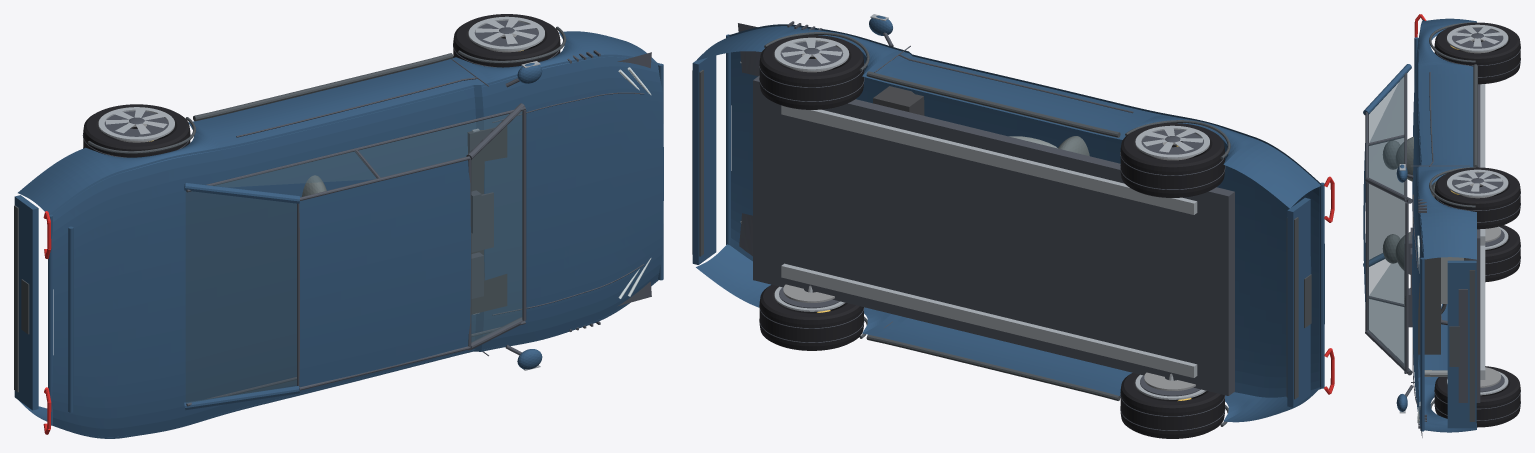
3 renders of one model, left to right at view 1: azimuth 30°, elevation 25°; view 2: azimuth 150°, elevation 25°; view 3: azimuth 270°, elevation 25°, orthographic. The views are drawn at different scales.
Visible parts, largest first — view 1: body_paint, body_glass, body_windshield, body_black, body_accent, wheel_rear_R_rubber, body_dash, wheel_front_R_rubber, wheel_front_R_metal, wheel_rear_R_metal, wheel_rear_R_black, wheel_front_R_black; view 2: body_black, body_paint, body_metal, body_accent, wheel_rear_R_rubber, wheel_front_R_rubber, wheel_rear_L_rubber, wheel_front_L_rubber, wheel_front_R_metal, wheel_rear_R_metal, wheel_rear_R_black, wheel_front_R_black (+3 smaller); view 3: body_paint, body_glass, body_black, body_windshield, body_accent, wheel_front_R_rubber, wheel_rear_R_rubber, wheel_front_L_rubber, body_dash, body_metal, body_seat, wheel_rear_L_rubber (+10 smaller).
Boxes of the visible parts, x1,y1,x2,y2 form: body_paint: (14,31,663,438); body_glass: (186,111,521,402); body_windshield: (471,111,522,342); body_black: (186,50,651,406); body_accent: (14,26,566,392); wheel_rear_R_rubber: (83,104,190,157); body_dash: (467,126,507,314); wheel_front_R_rubber: (453,14,560,67); wheel_front_R_metal: (468,16,544,50); wheel_rear_R_metal: (98,107,174,140); wheel_rear_R_black: (82,111,190,157); wheel_front_R_black: (453,20,560,67); body_black: (738,21,1234,395); body_paint: (692,15,1324,422); body_metal: (781,14,1197,380); body_accent: (692,32,1311,426); wheel_rear_R_rubber: (1120,123,1224,197); wheel_front_R_rubber: (759,35,863,109); wheel_rear_L_rubber: (1120,373,1224,438); wheel_front_L_rubber: (759,284,863,350); wheel_front_R_metal: (774,37,849,70); wheel_rear_R_metal: (1135,125,1209,158); wheel_rear_R_black: (1120,129,1225,190); wheel_front_R_black: (759,41,864,102); body_paint: (1363,18,1476,432); body_glass: (1368,73,1407,370); body_black: (1365,72,1480,437); body_windshield: (1368,183,1404,367); body_accent: (1429,22,1477,421); wheel_front_R_rubber: (1434,167,1520,229); wheel_rear_R_rubber: (1434,22,1520,84); wheel_front_L_rubber: (1434,366,1520,427); body_dash: (1404,194,1469,354); body_metal: (1399,84,1485,413); body_seat: (1383,136,1435,274); wheel_rear_L_rubber: (1485,225,1520,282).
Bounding box in the file's own units: 4.68 × 2.19 × 1.28.
